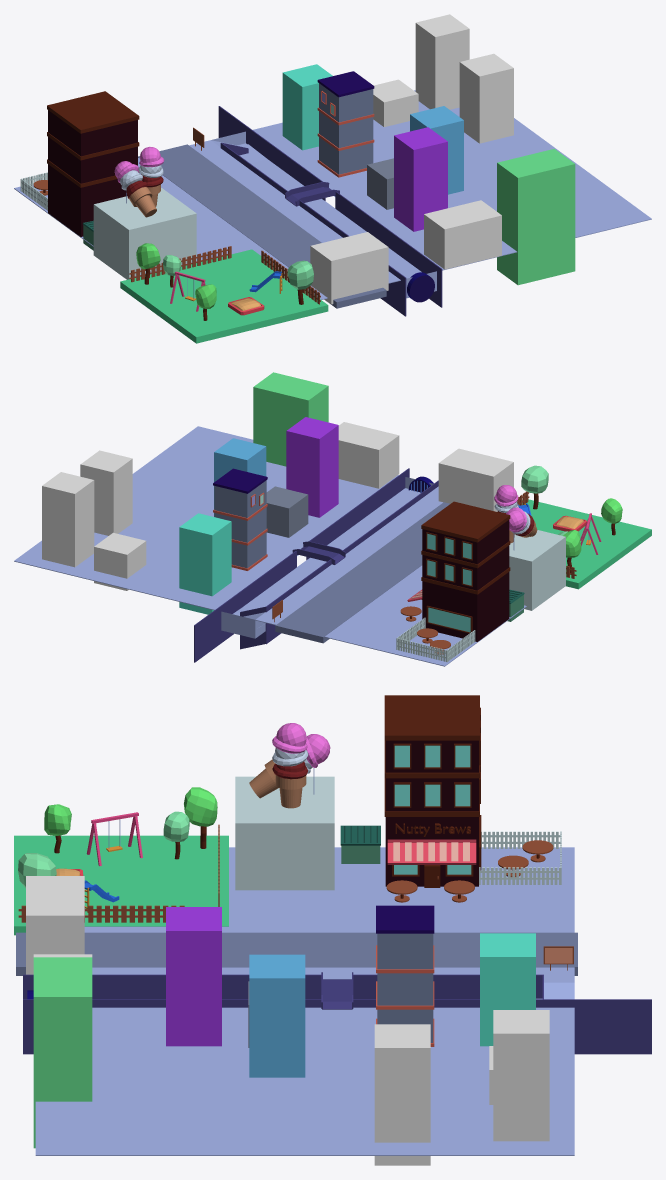
Rendered from city-4.fbx.
3 renders of one model, top to bottom at view 1: azimuth 30°, elevation 25°; view 2: azimuth 150°, elevation 25°; view 3: azimuth 270°, elevation 25°, orthographic. The views are drawn at different scales.
Parts seen in each view (by area): view 1: Floor, Building.002, Cube, Cube.007, Building.005, Building.043, Building.007, Building.001, Building.008, Building.010, Building.015, Building.012 (+17 smaller); view 2: Floor, Cube.007, Building.005, Building.008, Building.002, Building.007, Building.013, Cube, Building.043, Building.015, Building.001, Building.010 (+16 smaller); view 3: Floor, Cube, Cube.007, Building.043, Building.002, Building.007, Building.008, Building.010, Building.003, Building.005, River Wall.002, Building.012 (+22 smaller).
Boxes of the visible parts, x1=… form: Floor: x1=14, y1=90, x2=651, y2=299; Building.002: x1=497, y1=148, x2=575, y2=285; Cube: x1=120, y1=249, x2=328, y2=343; Cube.007: x1=138, y1=144, x2=386, y2=308; Building.005: x1=48, y1=110, x2=137, y2=236; Building.043: x1=93, y1=188, x2=196, y2=279; Building.007: x1=394, y1=127, x2=447, y2=231; Building.001: x1=424, y1=200, x2=501, y2=269; Building.008: x1=415, y1=14, x2=469, y2=109; Building.010: x1=459, y1=53, x2=513, y2=143; Building.015: x1=310, y1=232, x2=388, y2=304; Building.012: x1=319, y1=83, x2=373, y2=174; Floor: x1=14, y1=426, x2=526, y2=666; Cube.007: x1=275, y1=502, x2=449, y2=643; Building.005: x1=422, y1=520, x2=509, y2=641; Building.008: x1=42, y1=472, x2=94, y2=567; Building.002: x1=253, y1=372, x2=328, y2=466; Building.007: x1=286, y1=417, x2=338, y2=517; Building.013: x1=179, y1=513, x2=231, y2=614; Cube: x1=522, y1=499, x2=651, y2=589; Building.043: x1=509, y1=530, x2=565, y2=610; Building.015: x1=438, y1=448, x2=513, y2=511; Building.001: x1=338, y1=422, x2=399, y2=488; Building.010: x1=80, y1=450, x2=132, y2=535; Floor: x1=35, y1=847, x2=574, y2=1155; Cube: x1=14, y1=835, x2=228, y2=935; Cube.007: x1=16, y1=932, x2=577, y2=975; Building.043: x1=235, y1=776, x2=334, y2=890; Building.002: x1=33, y1=957, x2=92, y2=1148; Building.007: x1=166, y1=907, x2=221, y2=1046; Building.008: x1=493, y1=1010, x2=549, y2=1141; Building.010: x1=374, y1=1024, x2=430, y2=1165; Building.003: x1=249, y1=954, x2=305, y2=1077; Building.005: x1=385, y1=740, x2=478, y2=886; River Wall.002: x1=353, y1=999, x2=651, y2=1054; Building.012: x1=377, y1=933, x2=433, y2=1042.
Bounding box in the file's own units: 68431 × 21522 × 57832.
